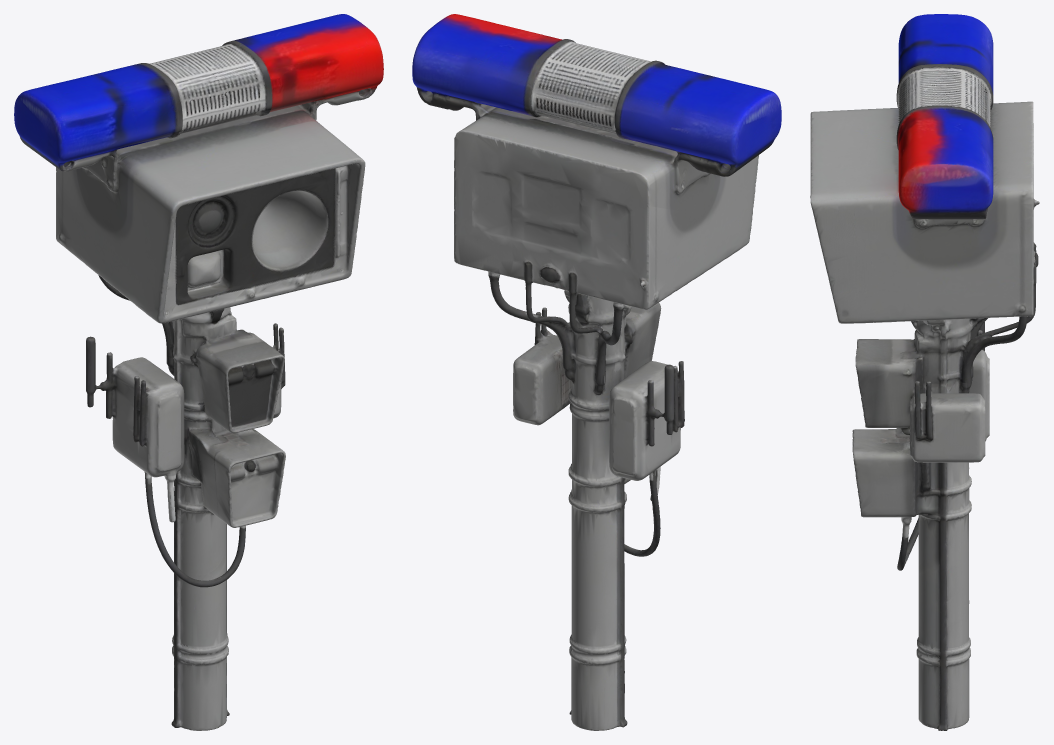
The model's file is Radar_de_Vitesse-v1.glb.
The picture shows the model from 3 angles, left to right: view 1: azimuth 30°, elevation 25°; view 2: azimuth 150°, elevation 25°; view 3: azimuth 270°, elevation 25°; orthographic projection. The views are drawn at different scales.
Parts seen in each view (by area): view 1: Radar_de_Vitesse; view 2: Radar_de_Vitesse; view 3: Radar_de_Vitesse.
Part boxes in pixels (x1,y1,x2,y2): Radar_de_Vitesse: [14, 14, 383, 730]; Radar_de_Vitesse: [412, 14, 781, 730]; Radar_de_Vitesse: [810, 14, 1039, 730].
Bounding box in the file's own units: 1.03 × 2 × 0.6563.
Materials: 1 (1 with a texture image).
